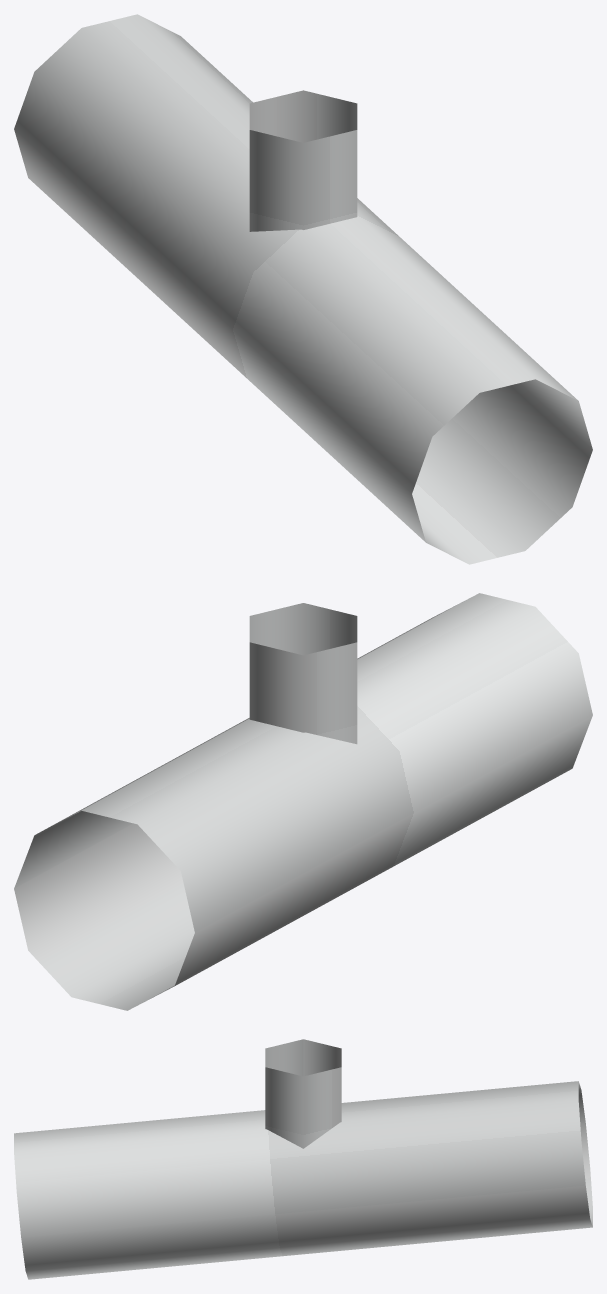
File: trusssignalarm_level12_c8.obj
3 views of the same model, one above another, from view 1: azimuth 30°, elevation 25°; view 2: azimuth 150°, elevation 25°; view 3: azimuth 270°, elevation 25° (orthographic). The views are drawn at different scales.
Parts seen in each view (by area): view 1: trusssignalarm_level12_c8; view 2: trusssignalarm_level12_c8; view 3: trusssignalarm_level12_c8.
Part boxes in pixels (x1,y1,x2,y2): trusssignalarm_level12_c8: [14, 14, 592, 564]; trusssignalarm_level12_c8: [14, 593, 592, 1010]; trusssignalarm_level12_c8: [14, 1039, 592, 1279].
Bounding box in the file's own units: 0.2625 × 0.4148 × 1.03.
